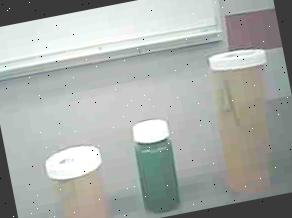Bottle A: (190, 36, 292, 205)
Bottle B: (38, 136, 123, 218)
Bottle C: (124, 111, 193, 218)
